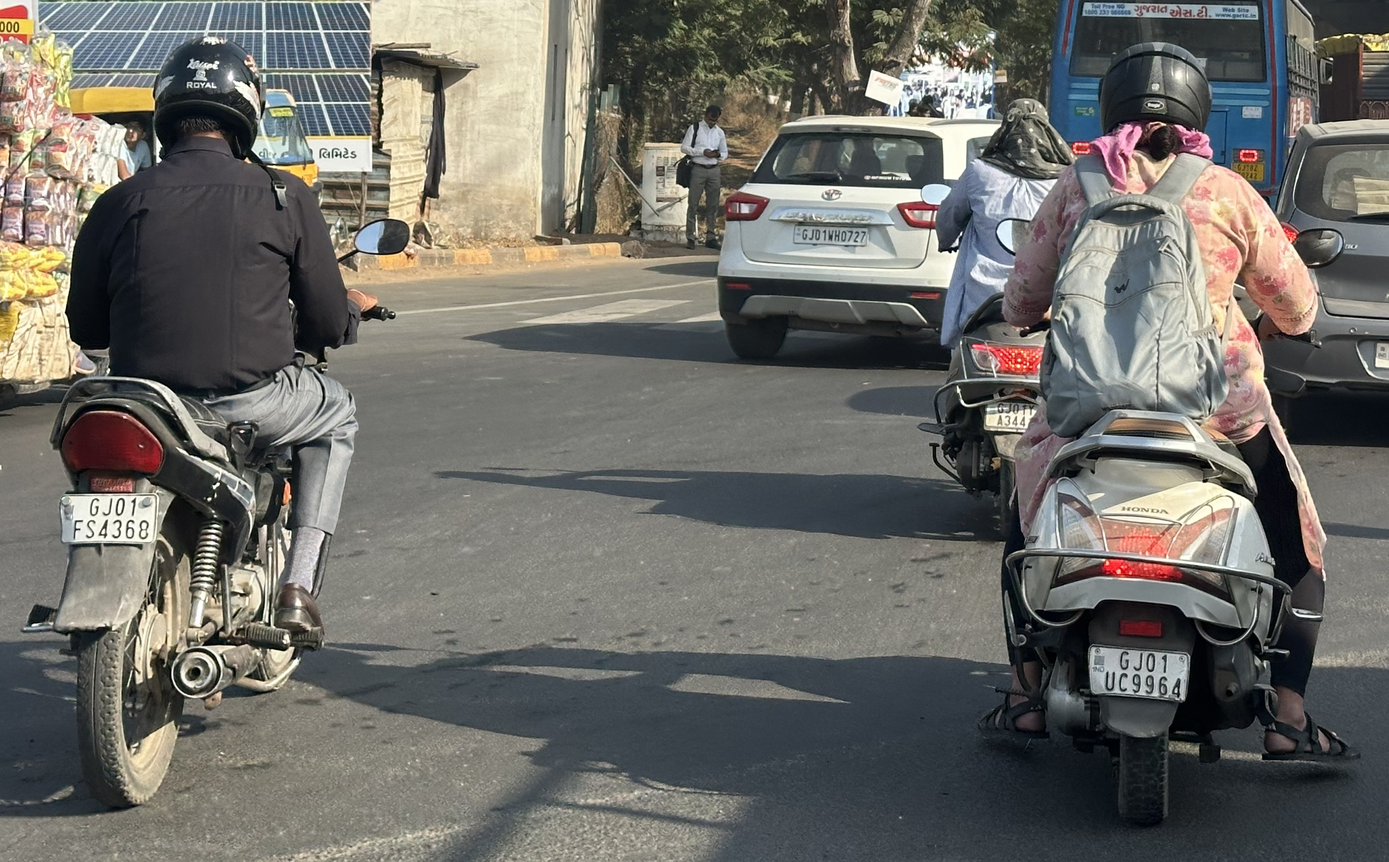BikeWithRider: (0, 22, 417, 818), (958, 31, 1366, 836), (919, 93, 1091, 547)
Helmet: (141, 30, 275, 165), (1089, 30, 1224, 157)
NoHelmet: (989, 93, 1062, 163)
